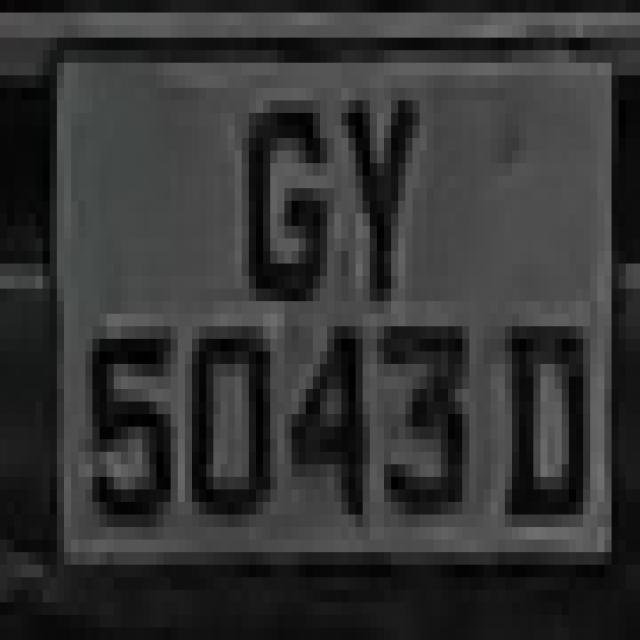0: (170, 289, 298, 552)
3: (370, 264, 462, 564)
4: (284, 276, 384, 515)
5: (64, 264, 185, 577)
D: (491, 276, 583, 590)
G: (228, 25, 327, 364)
Y: (327, 38, 427, 301)
